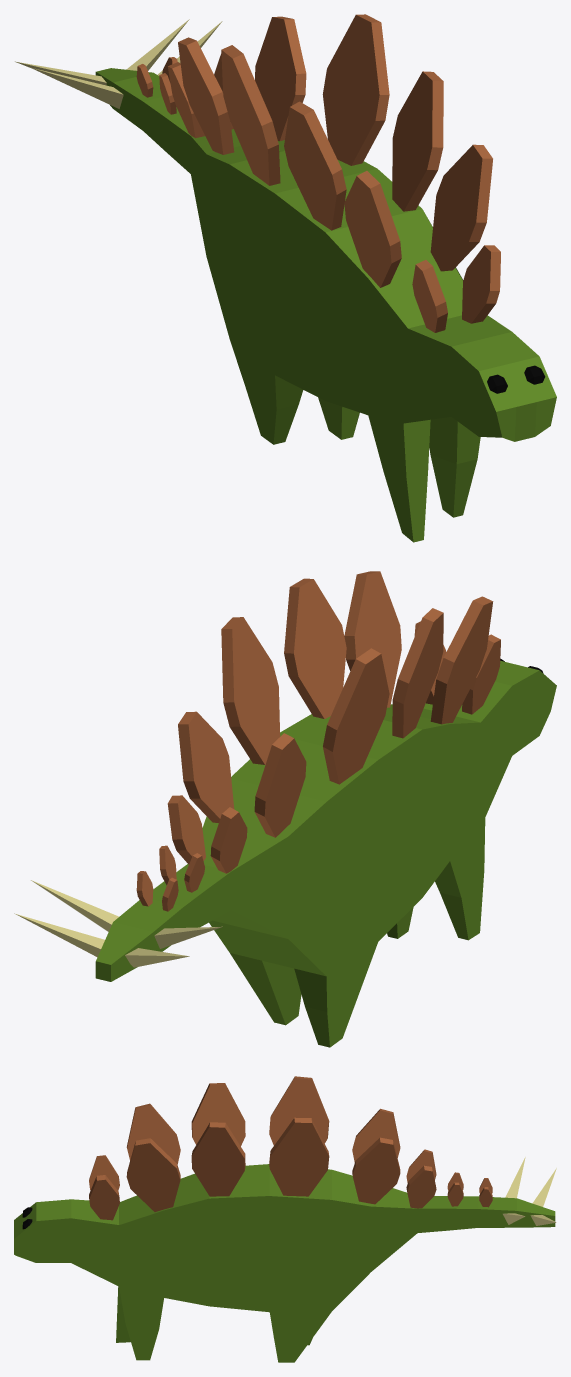
The model's file is stégausaure.glb.
3 views of the same model, one above another, from view 1: azimuth 30°, elevation 25°; view 2: azimuth 150°, elevation 25°; view 3: azimuth 270°, elevation 25° (orthographic). The views are drawn at different scales.
Parts seen in each view (by area): view 1: Cube, Cube.002, Cube.001, Cube.003, Cube.005, Cube.004, Cube.006, Cone, Cone.001; view 2: Cube, Cube.002, Cube.001, Cube.003, Cube.005, Cube.006, Cube.004, Cone.001, Cone, Cube.007, Cube.008; view 3: Cube, Cube.002, Cube.001, Cube.003, Cube.005, Cube.004, Cube.006, Cone.001, Cube.007, Cone.
Boxes of the visible parts, x1,y1,x2,y2 form: Cube: (95,68,556,542); Cube.002: (221,14,389,185); Cube.001: (284,71,443,230); Cube.003: (344,144,492,287); Cube.005: (178,16,306,154); Cube.004: (412,245,500,332); Cube.006: (167,53,233,138); Cone: (31,21,222,108); Cone.001: (15,19,189,85); Cube: (95,661,556,1047); Cube.002: (221,617,389,784); Cube.001: (284,578,443,738); Cube.003: (344,571,493,724); Cube.005: (178,711,306,837); Cube.006: (167,795,247,873); Cube.004: (414,621,500,714); Cone.001: (14,913,189,967); Cone: (31,880,222,948); Cube.007: (159,845,204,892); Cube.008: (136,871,178,911); Cube: (14,1164,555,1362); Cube.002: (269,1076,329,1196); Cube.001: (191,1083,245,1196); Cube.003: (126,1103,180,1211); Cube.005: (352,1108,400,1204); Cube.004: (89,1155,119,1220); Cube.006: (406,1149,436,1208); Cone.001: (530,1168,556,1225); Cube.007: (447,1172,463,1206); Cone: (503,1157,525,1224).
Size of the model in its own units: 4.73 by 9.29 by 17.96.
Materials: 4 (1 with a texture image).
